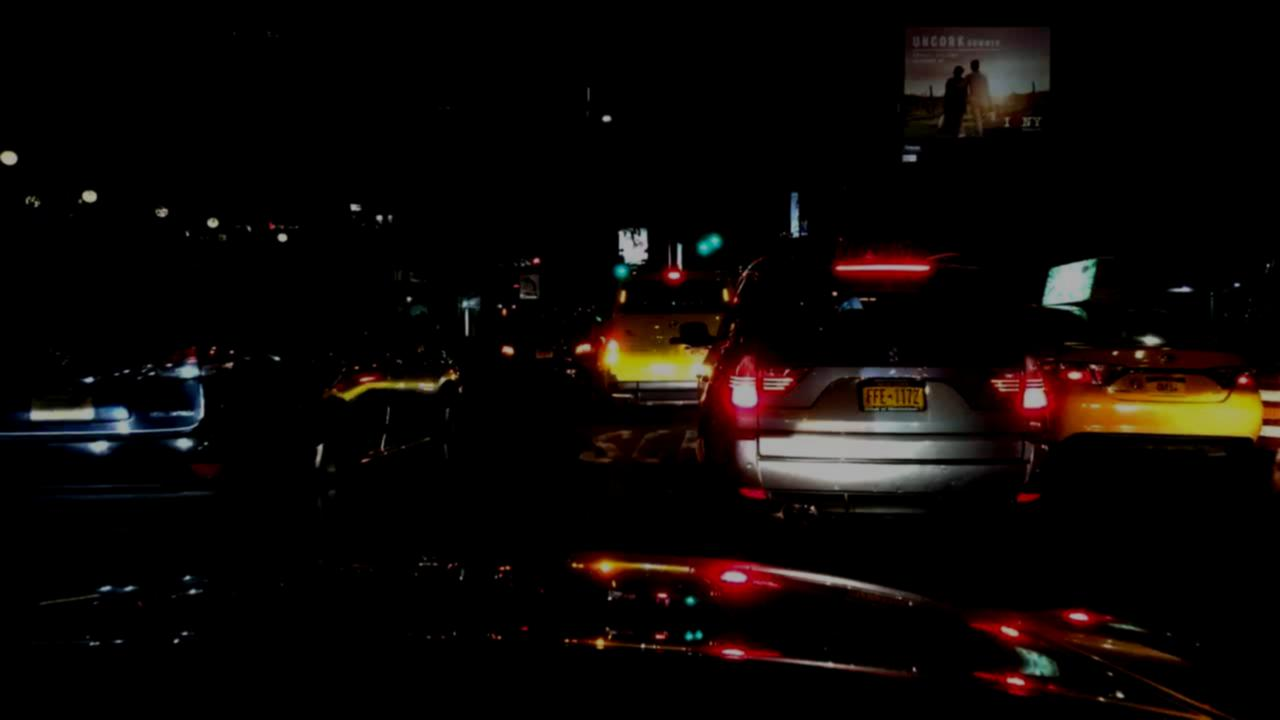Toyota: (1156, 348, 1185, 370)
bmw: (871, 336, 921, 368)
